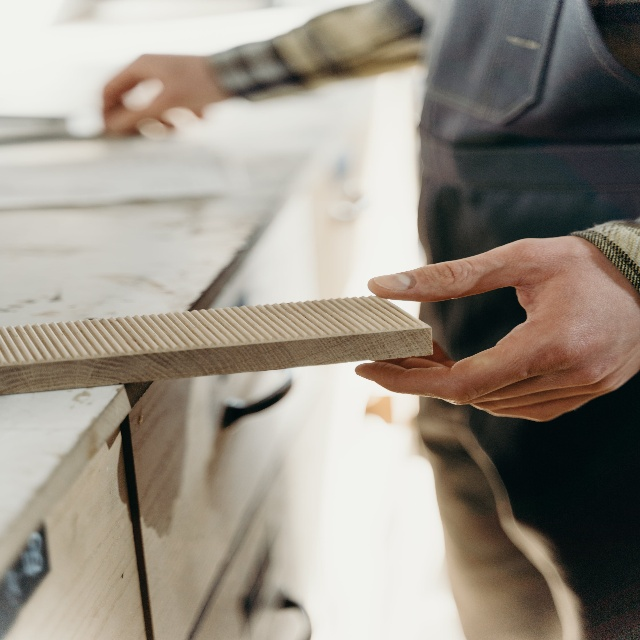Sin_guantes: (356, 227, 640, 423), (97, 47, 215, 130)
